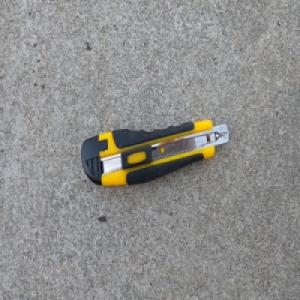Cutter: (78, 117, 230, 187)
